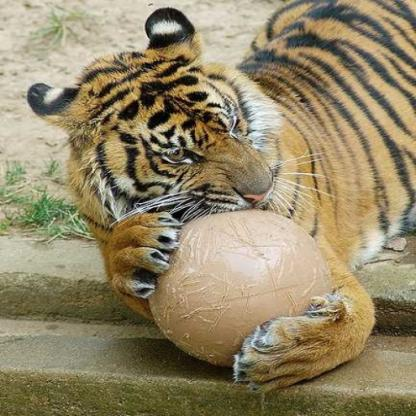Tiger: (15, 0, 416, 384)
